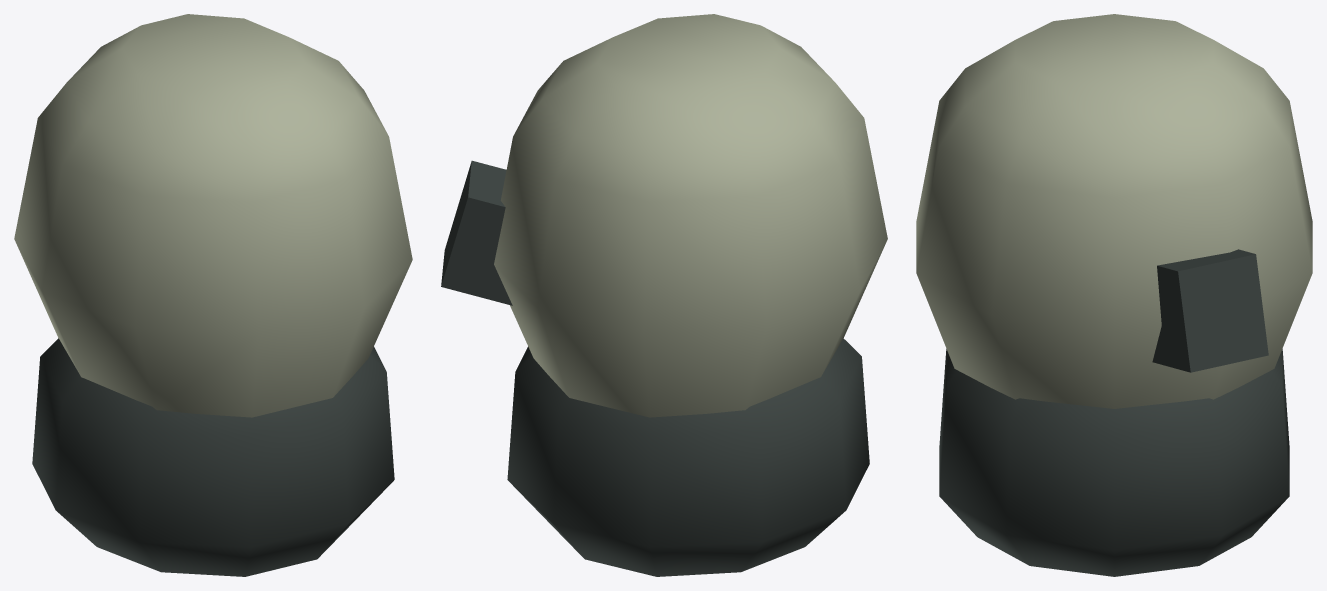
The model's file is pikeman_leg_left_rear.obj.
3 views of the same model, side by side, from view 1: azimuth 30°, elevation 25°; view 2: azimuth 150°, elevation 25°; view 3: azimuth 270°, elevation 25° (orthographic).
Visible parts, largest first — view 1: rigid_shell_003, rigid_shell_001; view 2: rigid_shell_003, rigid_shell_001, rigid_shell_000; view 3: rigid_shell_003, rigid_shell_001, rigid_shell_000.
Part boxes in pixels (<box>): rigid_shell_003: <box>14,14,412,417</box>; rigid_shell_001: <box>32,338,394,576</box>; rigid_shell_003: <box>494,14,887,417</box>; rigid_shell_001: <box>507,338,869,576</box>; rigid_shell_000: <box>441,160,512,305</box>; rigid_shell_003: <box>916,14,1312,408</box>; rigid_shell_001: <box>939,349,1289,576</box>; rigid_shell_000: <box>1152,249,1268,372</box>.
Size of the model in its own units: 0.5506 by 0.645 by 0.4945.
